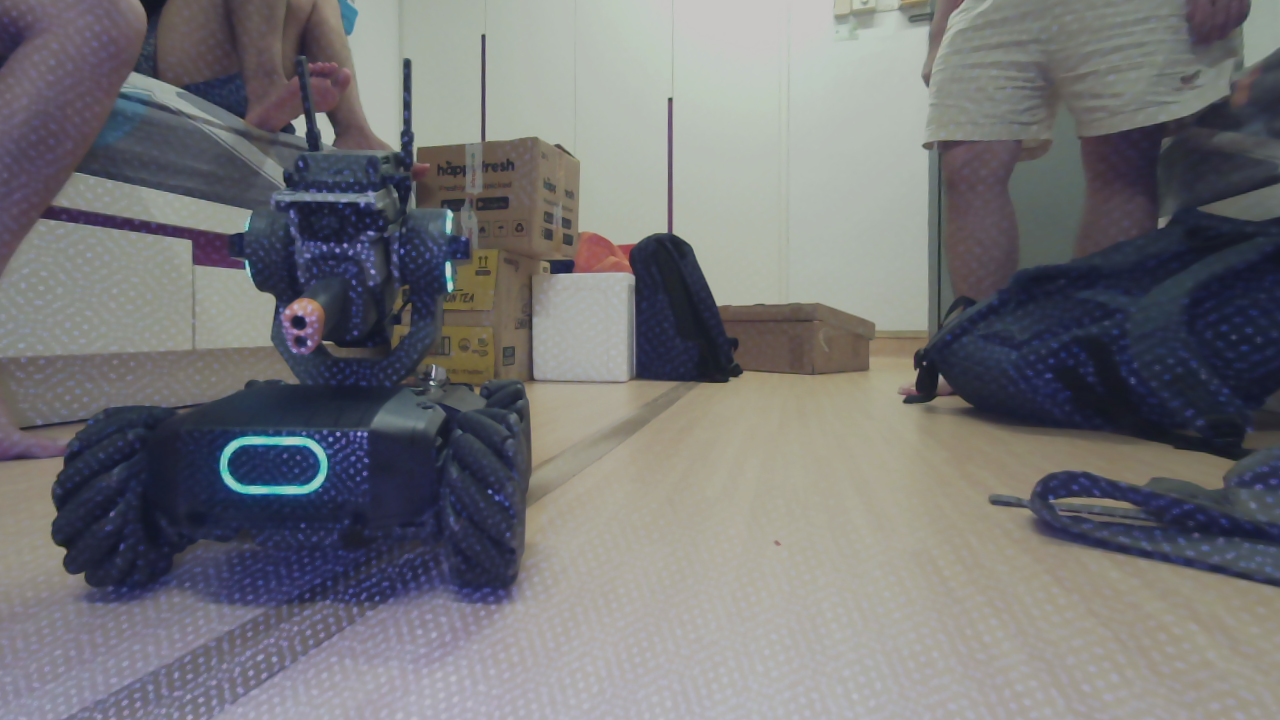ally_armor: (213, 431, 333, 500)
ally_robot: (47, 45, 553, 619)
